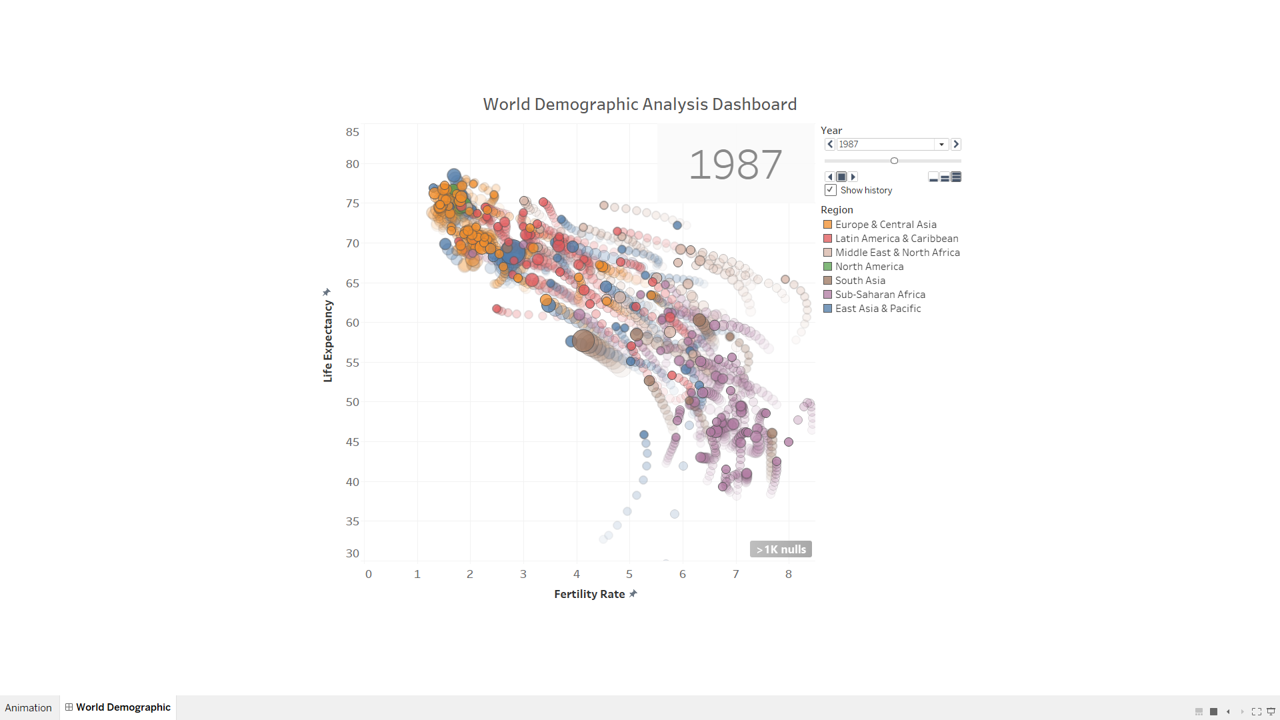

This screenshot's page, from the dashboard's own definition file:
{"tool":"tableau","page":{"name":"World Demographic","canvas":[1000,800],"ordinal":0},"visuals":[{"type":"text","box":[8,8,984,52]},{"type":"worksheet","title":"Animation","mark":"Circle","rows":["Pivot Field Values"],"cols":["Pivot Field Values"],"box":[8,60,759,732]},{"type":"currpage","title":"Animation","box":[767,60,225,119]},{"type":"legend","title":"Animation","param":"[federated.18agksj1ezh62g130pnt1155ejoe].[none:Region:nk]","box":[767,179,225,208]}]}

Visuals, with their boxes on the page's 1000x800 design canvas (x1, y1, x2, y2). These are canvas units, not pixel positions in the 1280x720 screenshot, which may show the page scaled, cropped or inside an application window:
text: <region>8, 8, 992, 60</region>
"Animation" worksheet (Circle marks): <region>8, 60, 767, 792</region>
"Animation" currpage: <region>767, 60, 992, 179</region>
"Animation" legend: <region>767, 179, 992, 387</region>
